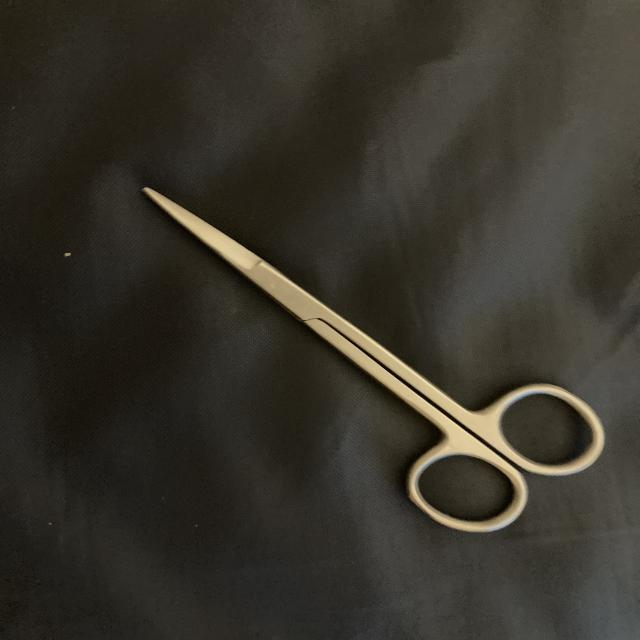scissor: (136, 172, 622, 548)
